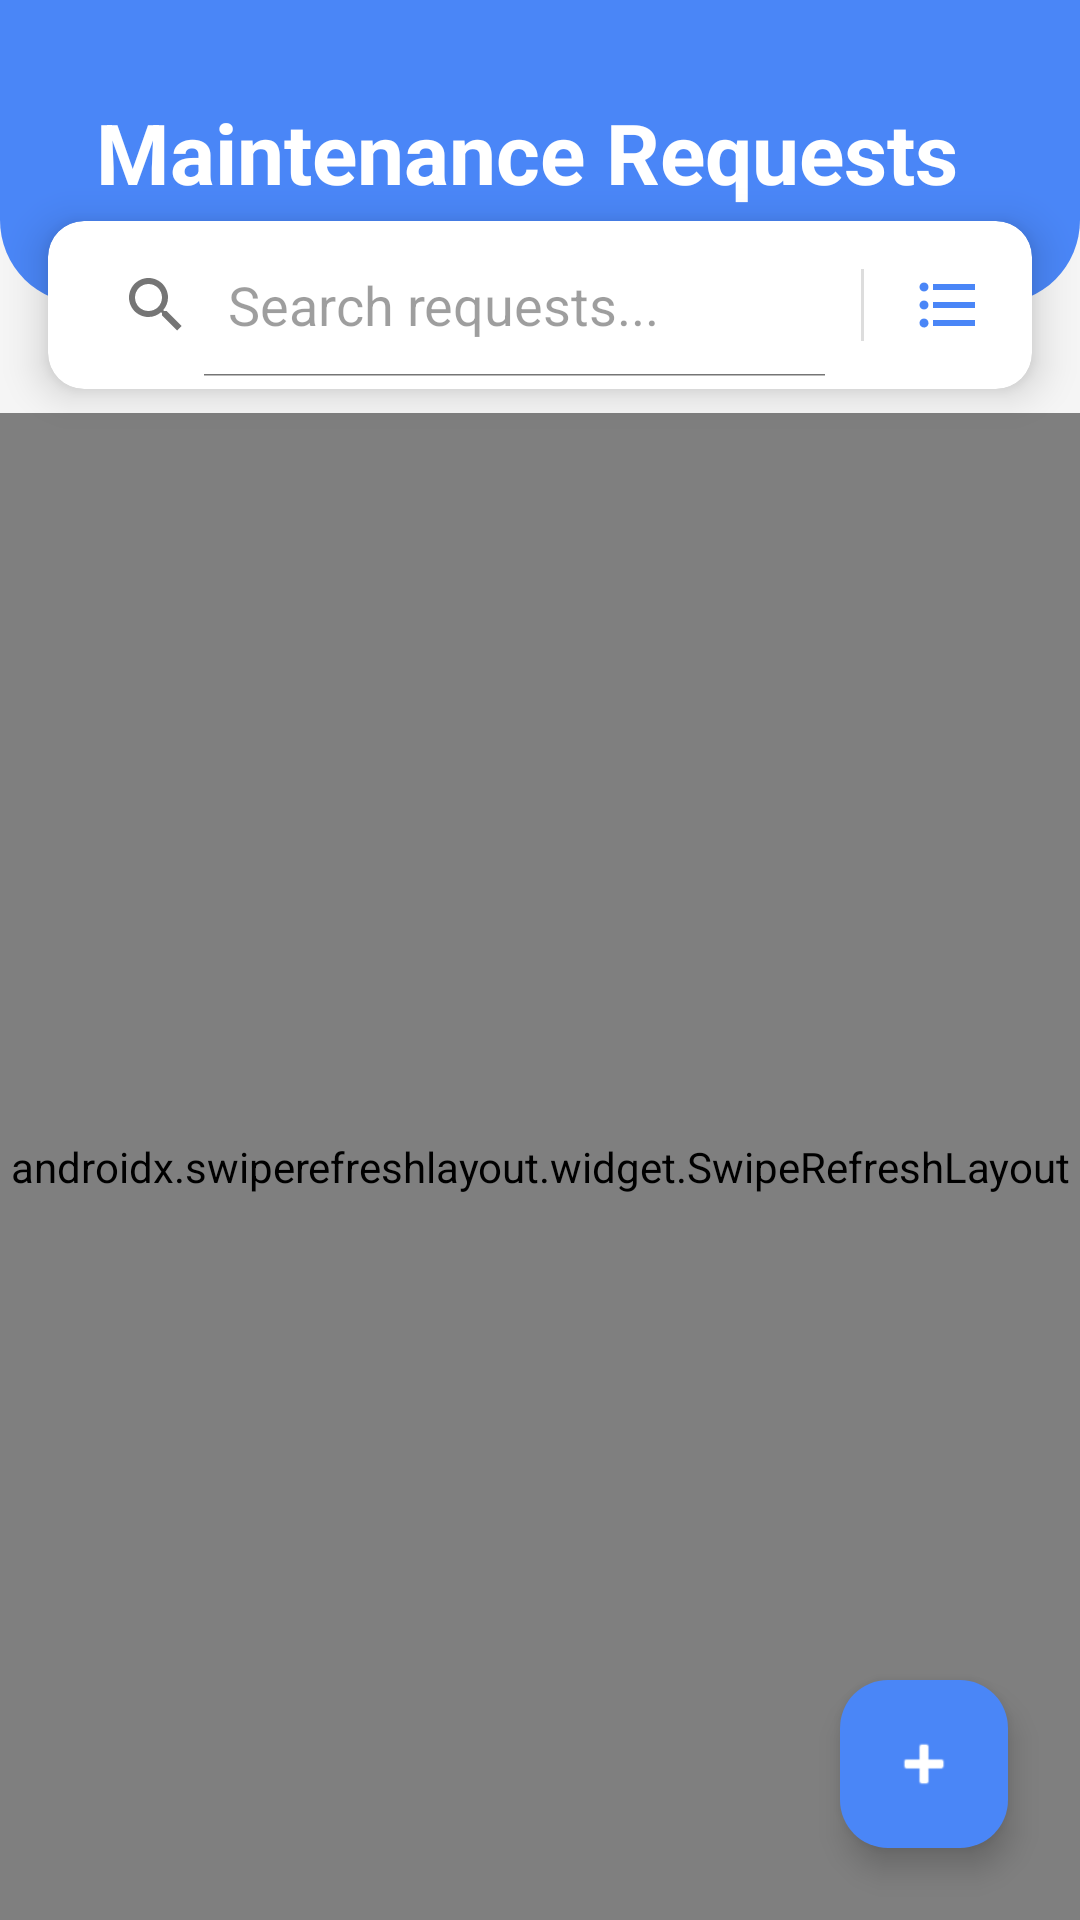

Icons on this 1080px×1920px Android screen, each with its box as Rect(x1, y1, x2, y2):
Create Request: Rect(840, 1680, 1008, 1848)
